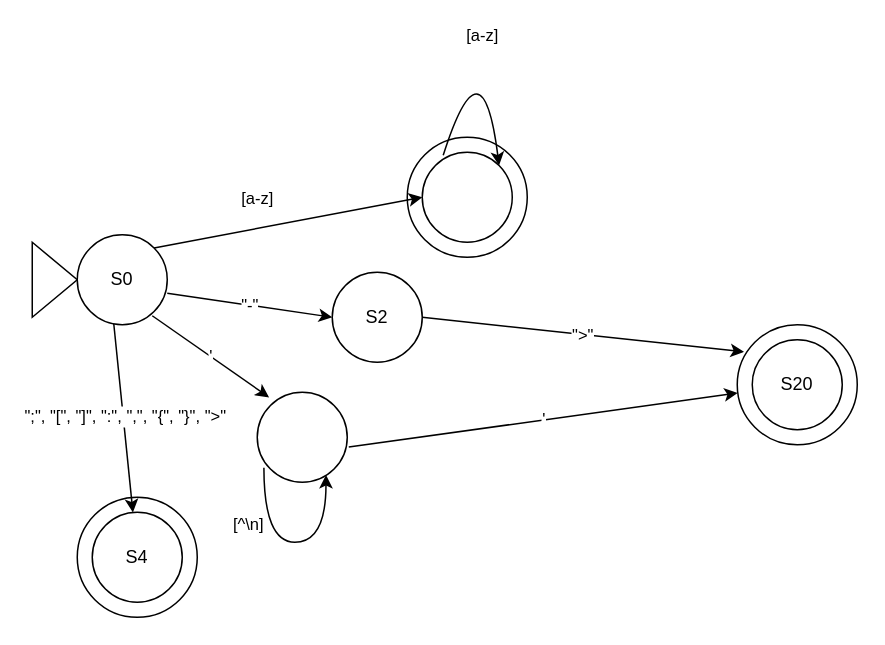
This 885x645 diagram has some shape labels left out. The shapes that lost their labels are listed below. From the top down, each one's box as (x1, y1, x2, y2) in pixels, then its label:
(421, 151, 512, 242): S1
(256, 391, 347, 482): S3
